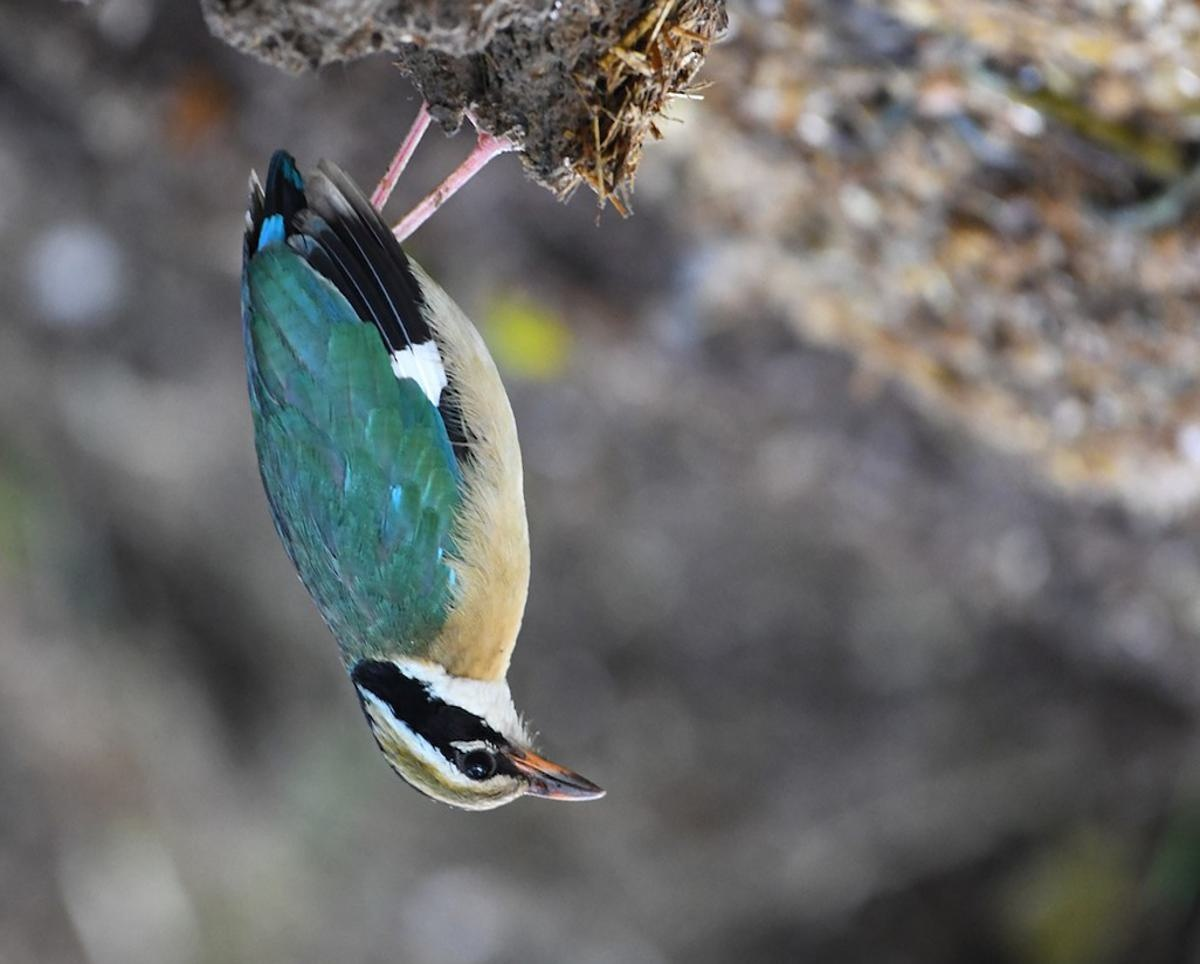pitta: (167, 29, 639, 846)
